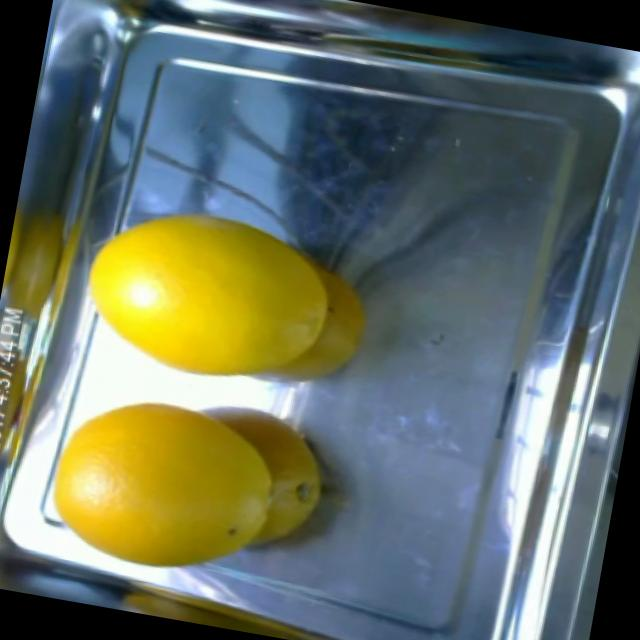Fruit: (61, 179, 285, 392)
